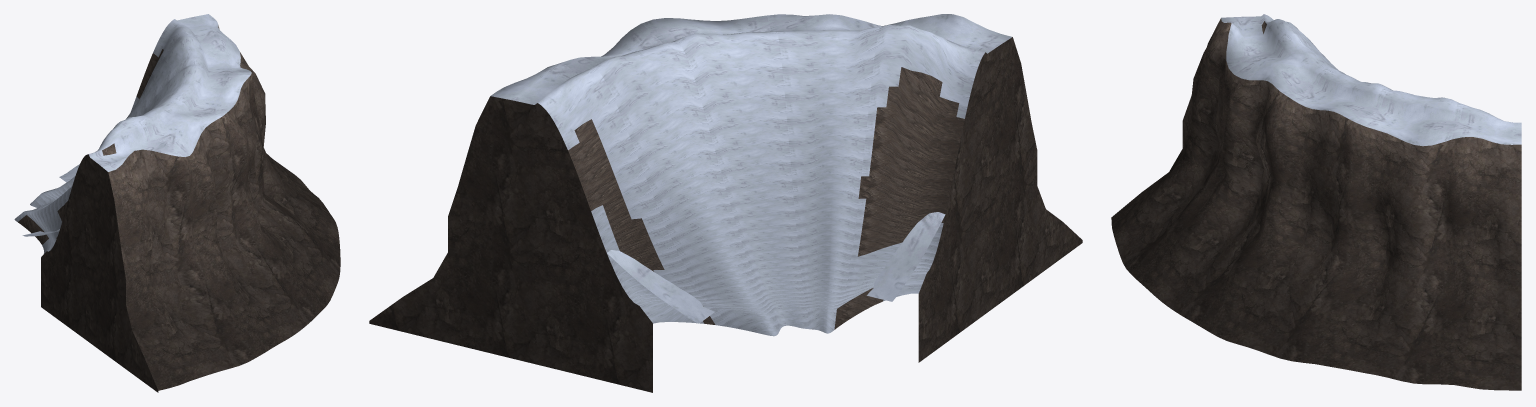
The model's file is seacliff_outer_h3_v5_winter.glb.
The picture shows the model from 3 angles, left to right: view 1: azimuth 30°, elevation 25°; view 2: azimuth 150°, elevation 25°; view 3: azimuth 270°, elevation 25°; orthographic projection. The views are drawn at different scales.
Visible parts, largest first — view 1: seacliff_outer_h3; view 2: seacliff_outer_h3; view 3: seacliff_outer_h3.
Part boxes in pixels (bbox=[...]): seacliff_outer_h3: bbox=[14, 14, 340, 392]; seacliff_outer_h3: bbox=[369, 14, 1082, 392]; seacliff_outer_h3: bbox=[1111, 14, 1521, 390].
Bounding box in the file's own units: 8.19 × 4.93 × 8.19.
Materials: 2 (2 with a texture image).
